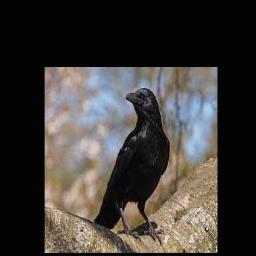Crow: (94, 88, 170, 242)
